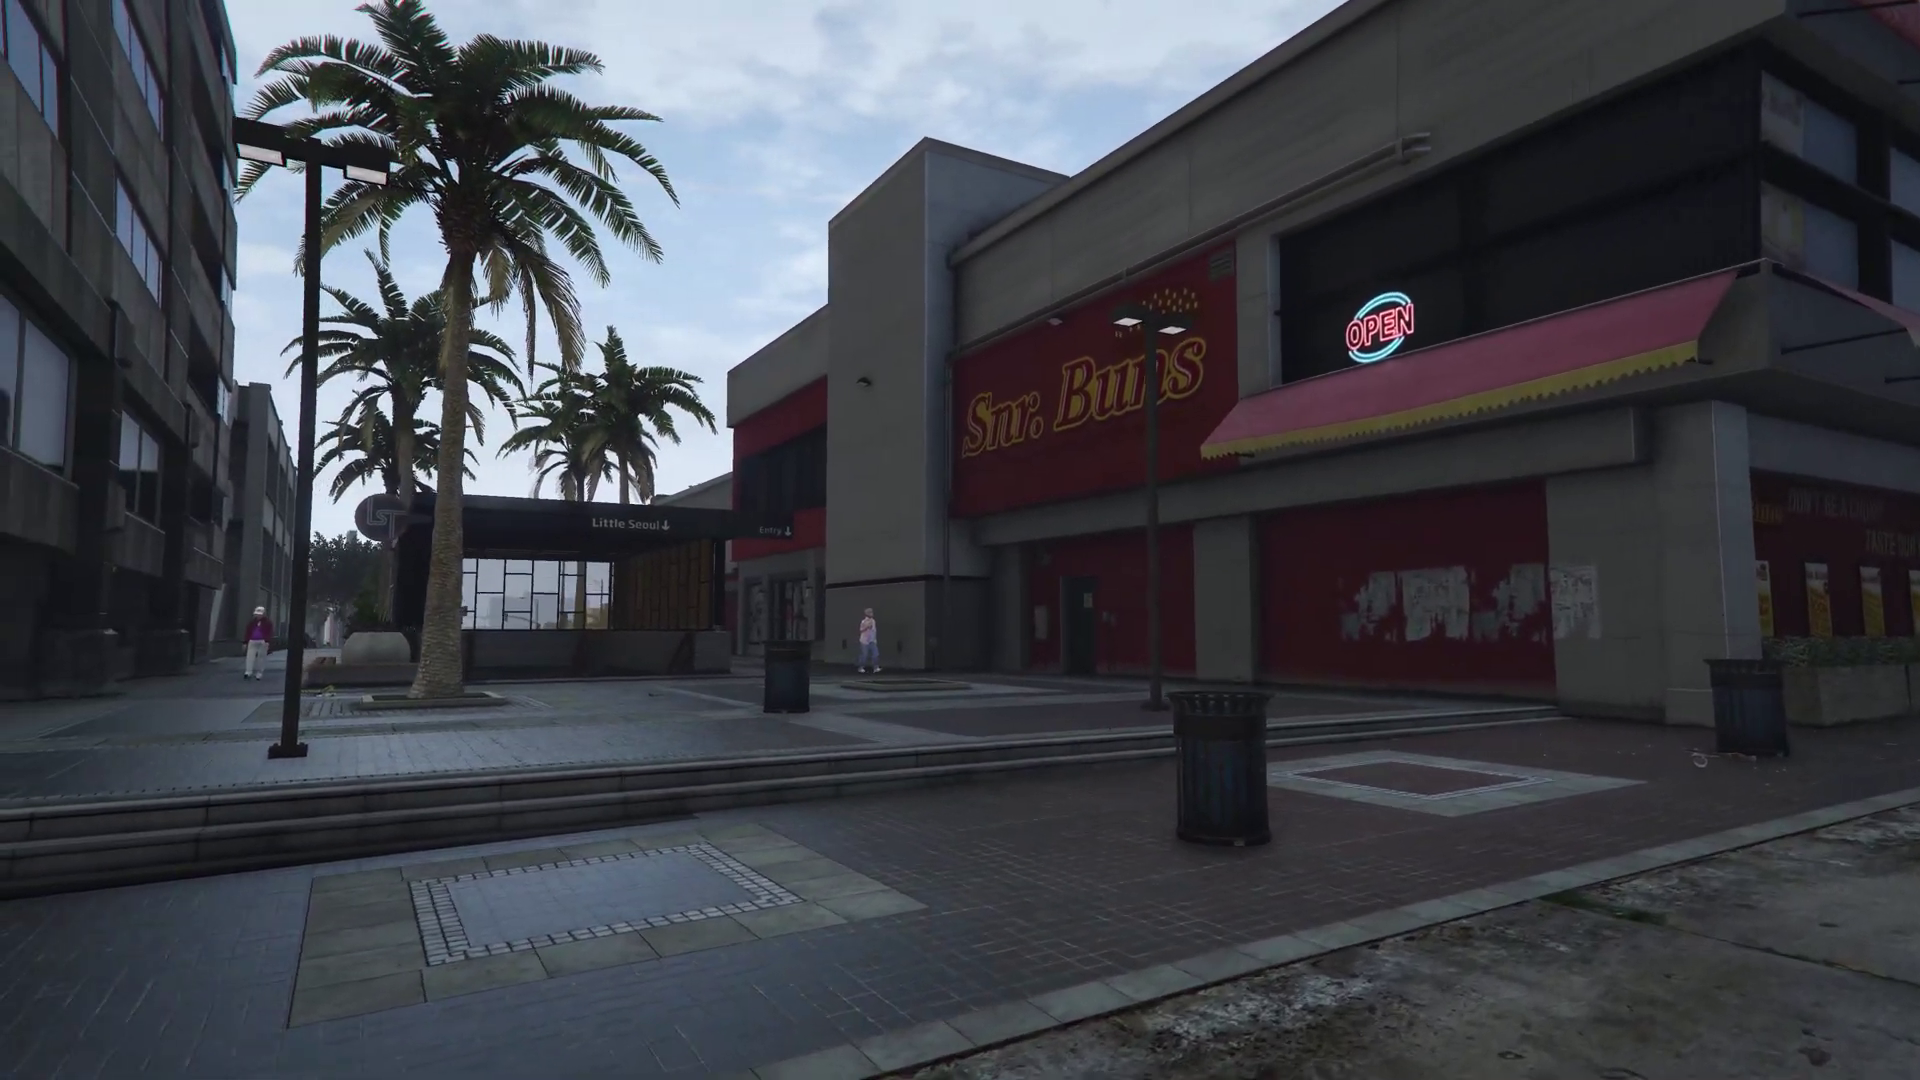person: (242, 607, 271, 680), (856, 606, 881, 675)
